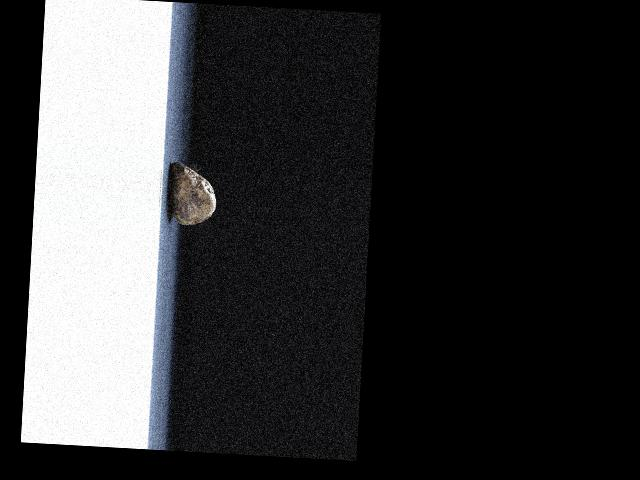beet: (167, 163, 217, 227)
